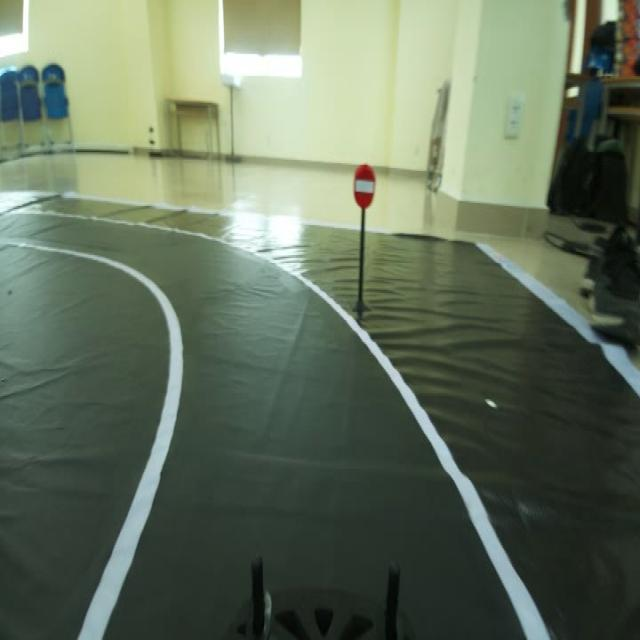no_entry: (348, 157, 382, 212)
